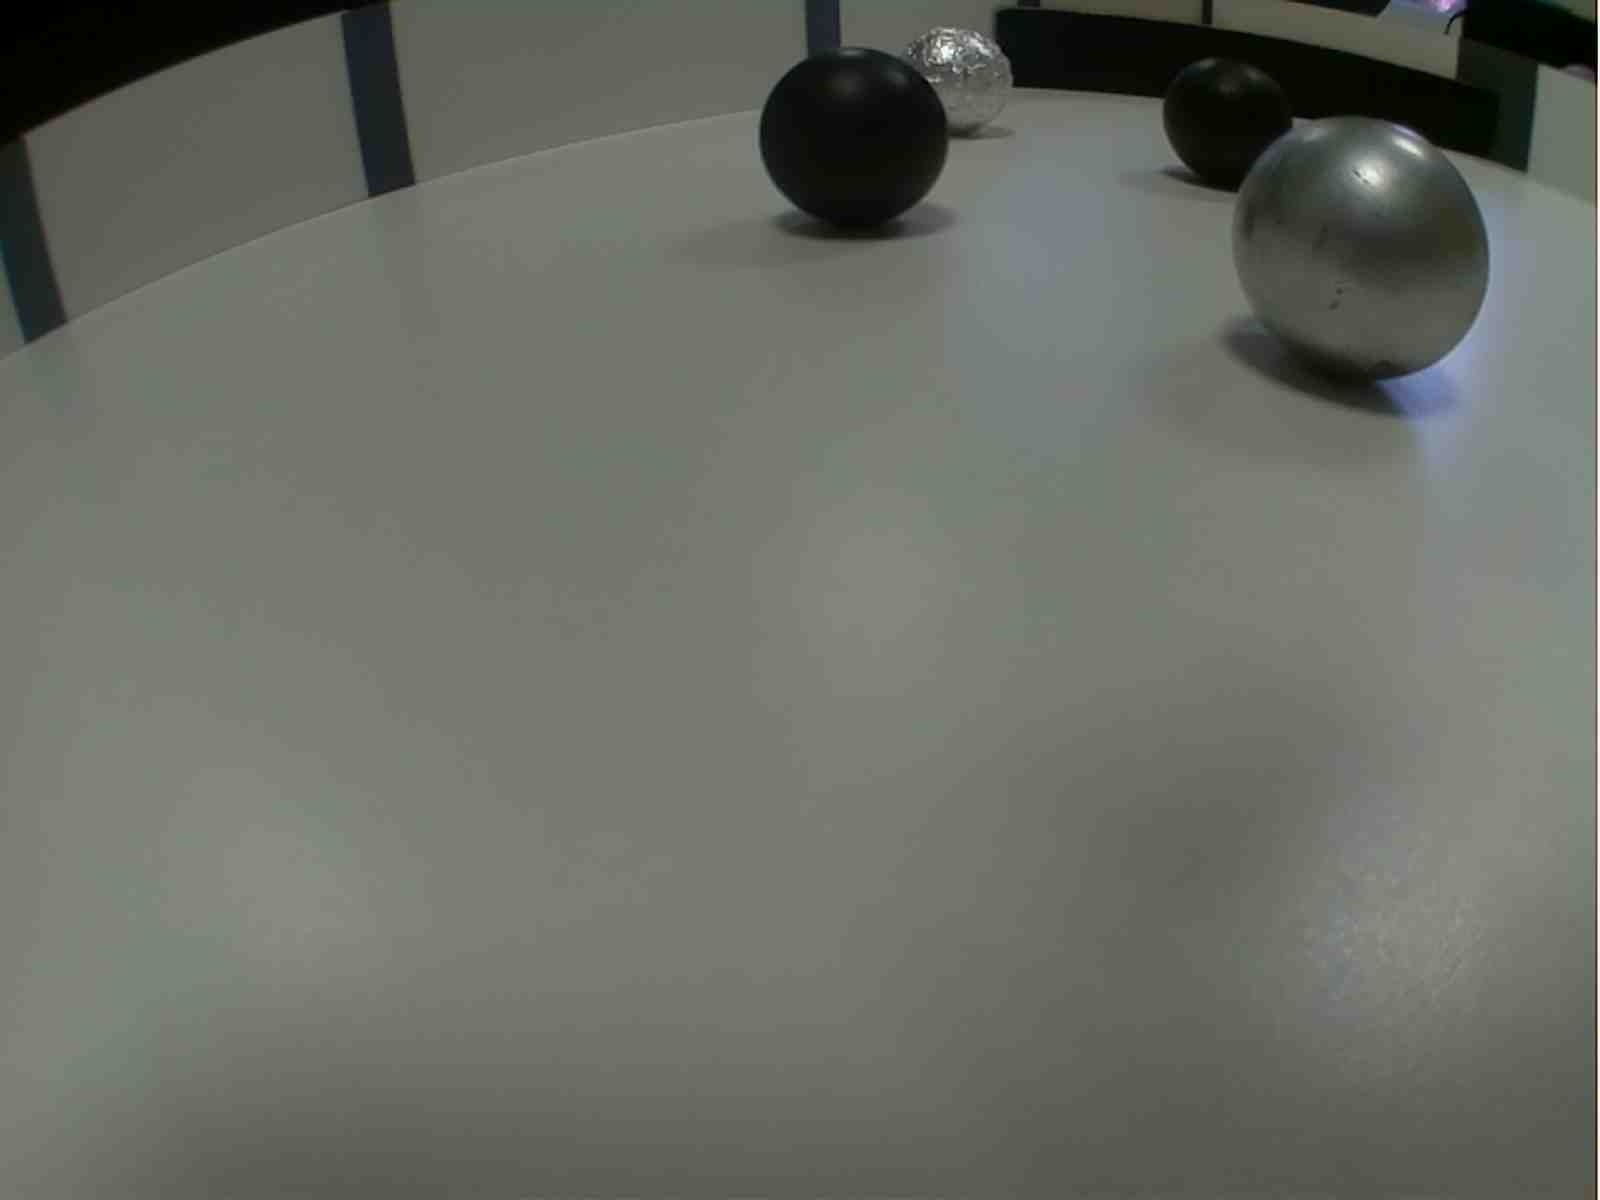bianca: (1226, 112, 1499, 384), (898, 25, 1015, 142)
nera: (762, 47, 954, 239), (1163, 43, 1308, 188)
